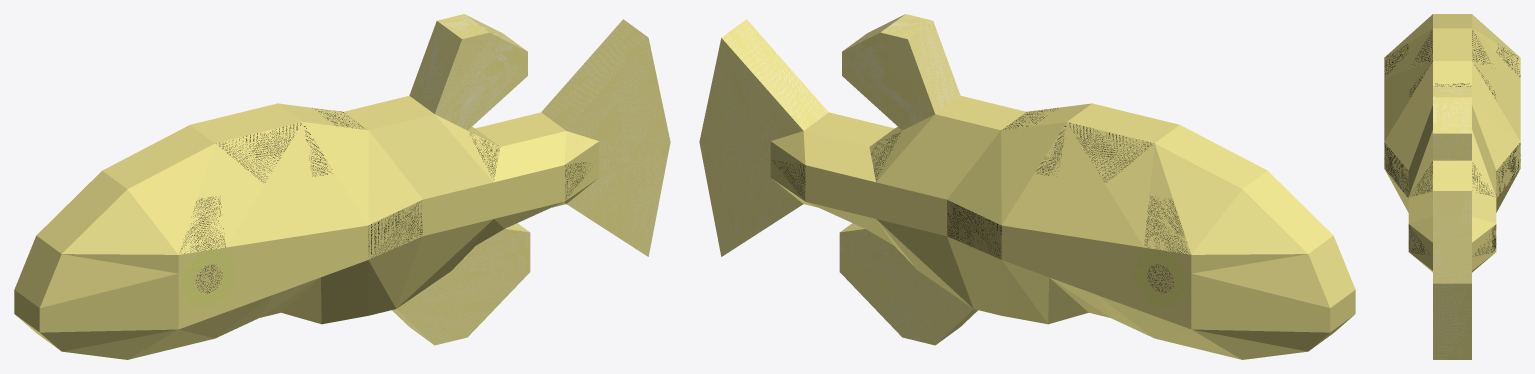
Rendered from dwarfpuffer.obj.
3 views of the same model, side by side, from view 1: azimuth 30°, elevation 25°; view 2: azimuth 150°, elevation 25°; view 3: azimuth 270°, elevation 25° (orthographic). The views are drawn at different scales.
Visible parts, largest first — view 1: SketchUp; view 2: SketchUp; view 3: SketchUp.
Part boxes in pixels (x1,y1,x2,y2): SketchUp: (14, 14, 670, 359); SketchUp: (699, 14, 1355, 359); SketchUp: (1384, 14, 1520, 359).
Size of the model in its own units: 2.3 by 1.04 by 0.56.
